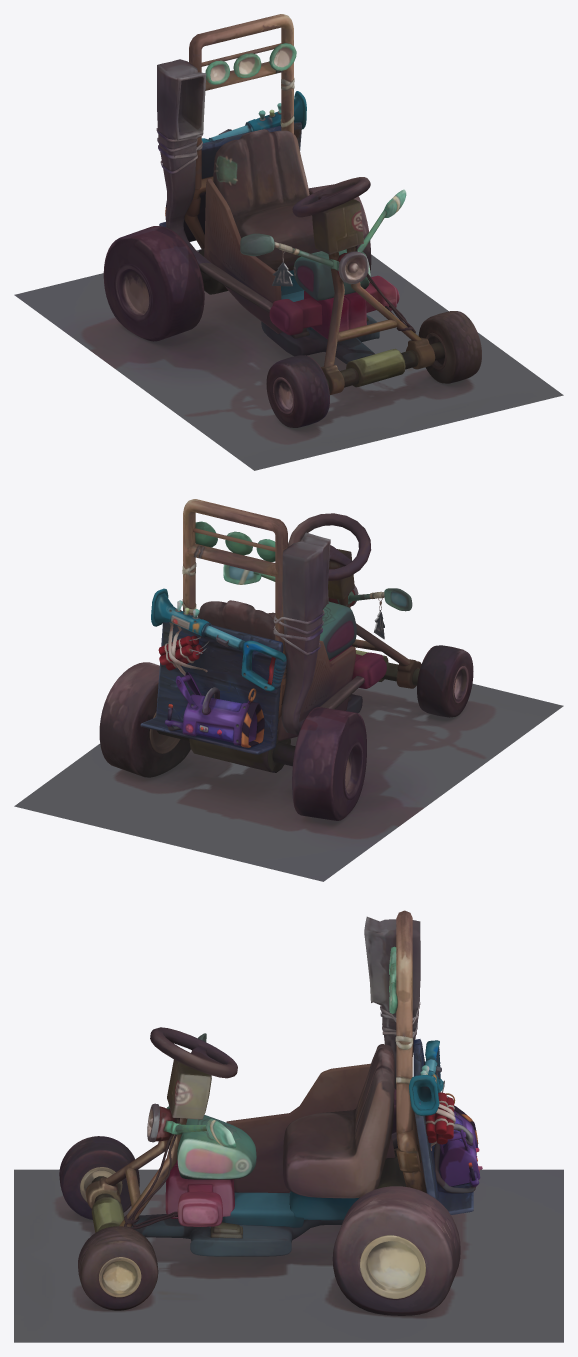
File: moped.glb
The picture shows the model from 3 angles, top to bottom: view 1: azimuth 30°, elevation 25°; view 2: azimuth 150°, elevation 25°; view 3: azimuth 270°, elevation 25°; orthographic projection. The views are drawn at different scales.
Visible parts, largest first — view 1: Object_2; view 2: Object_2; view 3: Object_2.
Boxes of the visible parts, box(x1,y1,x2,y2) form: Object_2: box(14, 14, 563, 470); Object_2: box(14, 499, 563, 881); Object_2: box(14, 910, 563, 1342).
Size of the model in its own units: 96.77 by 84.73 by 130.
Materials: 1 (1 with a texture image).
